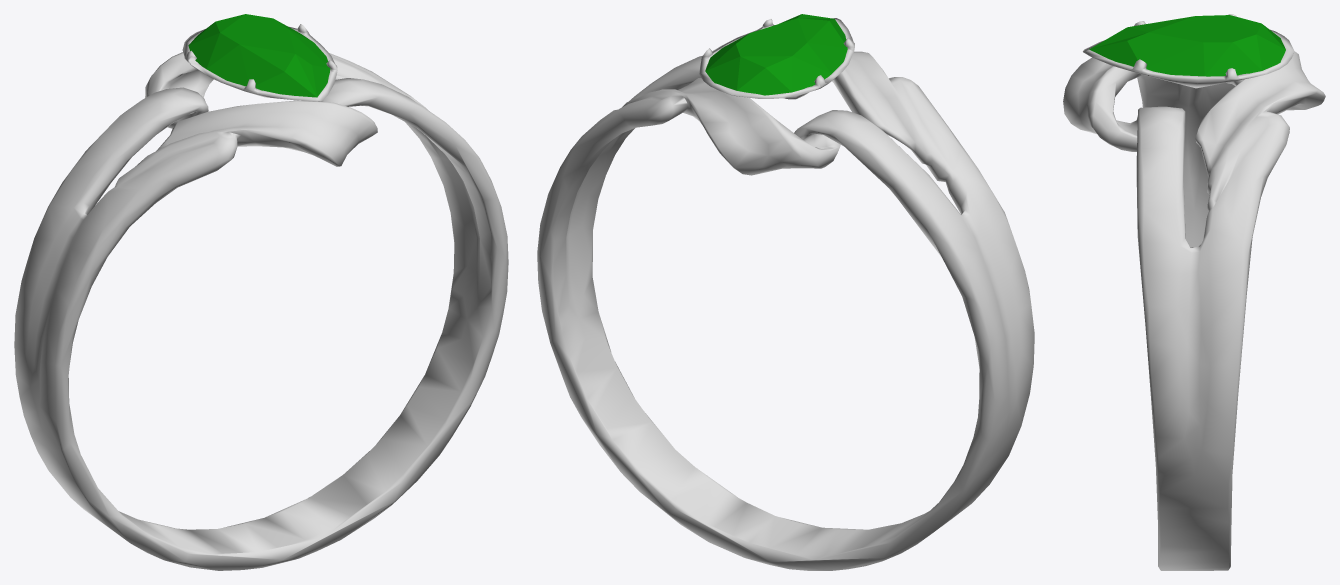
Rendered from ring_green.obj.
The picture shows the model from 3 angles, left to right: view 1: azimuth 30°, elevation 25°; view 2: azimuth 150°, elevation 25°; view 3: azimuth 270°, elevation 25°; orthographic projection.
Parts seen in each view (by area): view 1: ring_green_13506_Diamond_Ring_v1_l3; view 2: ring_green_13506_Diamond_Ring_v1_l3; view 3: ring_green_13506_Diamond_Ring_v1_l3.
Boxes of the visible parts, <box> form: ring_green_13506_Diamond_Ring_v1_l3: <box>14,14,508,570</box>; ring_green_13506_Diamond_Ring_v1_l3: <box>537,14,1034,570</box>; ring_green_13506_Diamond_Ring_v1_l3: <box>1063,14,1325,570</box>.
Bounding box in the file's own units: 0.1599 × 0.172 × 0.0789.
